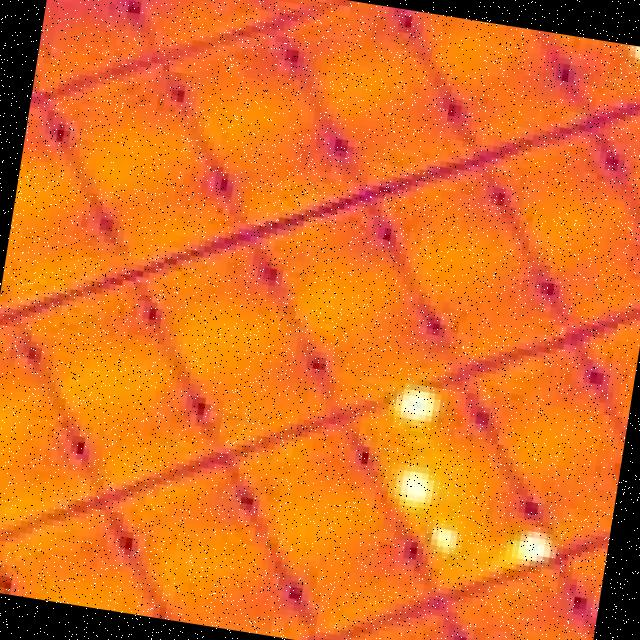Hotspot: (394, 388, 442, 423), (399, 465, 436, 510), (510, 529, 552, 564), (431, 522, 459, 548), (628, 45, 640, 62)
